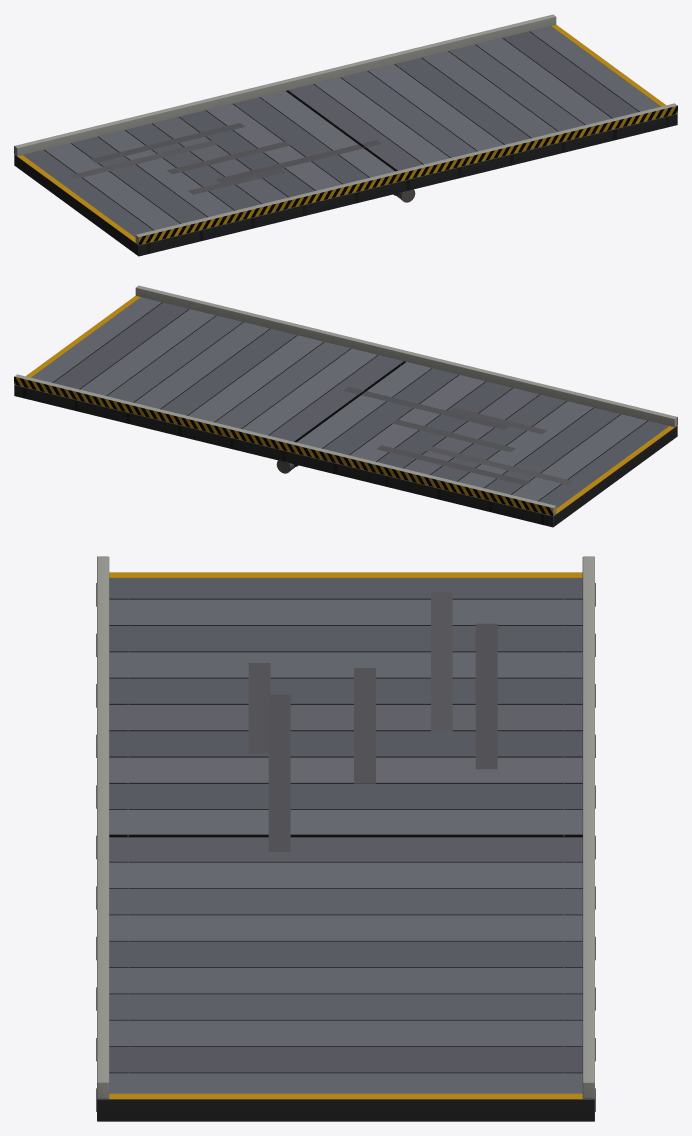
The model's file is balance_floor.glb.
The picture shows the model from 3 angles, top to bottom: view 1: azimuth 30°, elevation 25°; view 2: azimuth 150°, elevation 25°; view 3: azimuth 270°, elevation 25°; orthographic projection. The views are drawn at different scales.
Parts seen in each view (by area): view 1: Deck; view 2: Deck; view 3: Deck.
Boxes of the visible parts, <box> form: Deck: <box>14,14,677,256</box>; Deck: <box>14,285,677,527</box>; Deck: <box>96,556,595,1121</box>.
Bounding box in the file's own units: 20 × 1.11 × 8.02.
